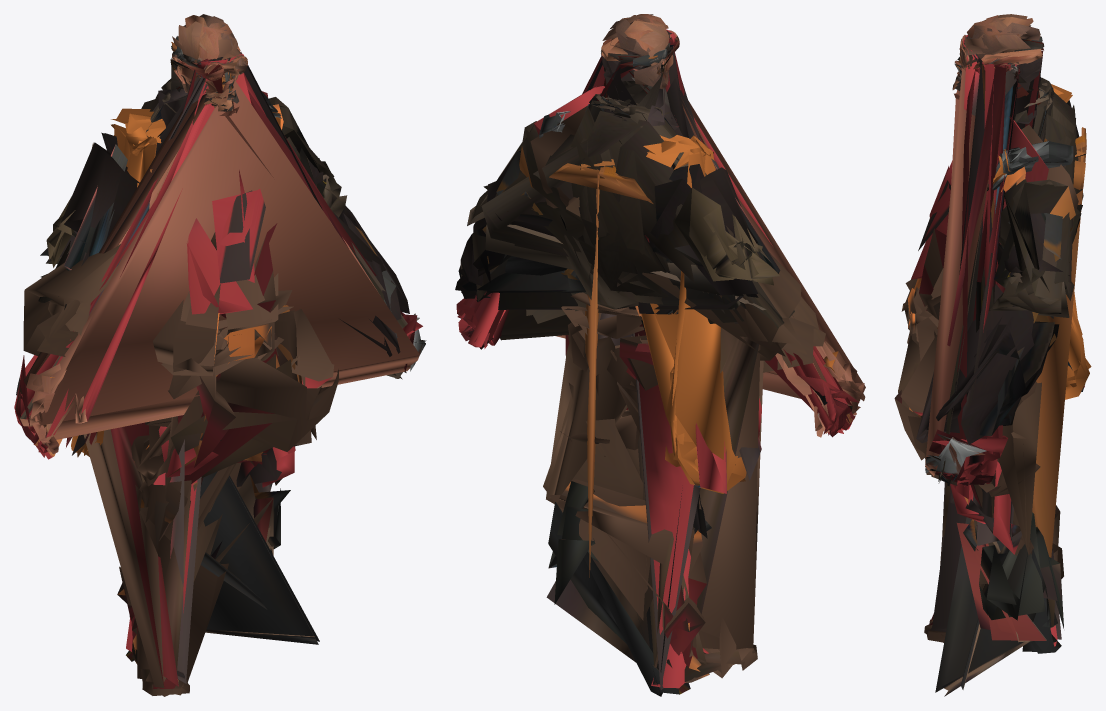
Rendered from engineer.obj.
3 views of the same model, side by side, from view 1: azimuth 30°, elevation 25°; view 2: azimuth 150°, elevation 25°; view 3: azimuth 270°, elevation 25° (orthographic). The views are drawn at different scales.
Visible parts, largest first — view 1: (null); view 2: (null); view 3: (null).
Part boxes in pixels (left/top/right/bottom): (null): left=14, top=14, right=426, bottom=696; (null): left=455, top=14, right=865, bottom=696; (null): left=894, top=14, right=1091, bottom=696.
Size of the model in its own units: 48.39 by 76.17 by 20.81.
Materials: 2 (2 with a texture image).
